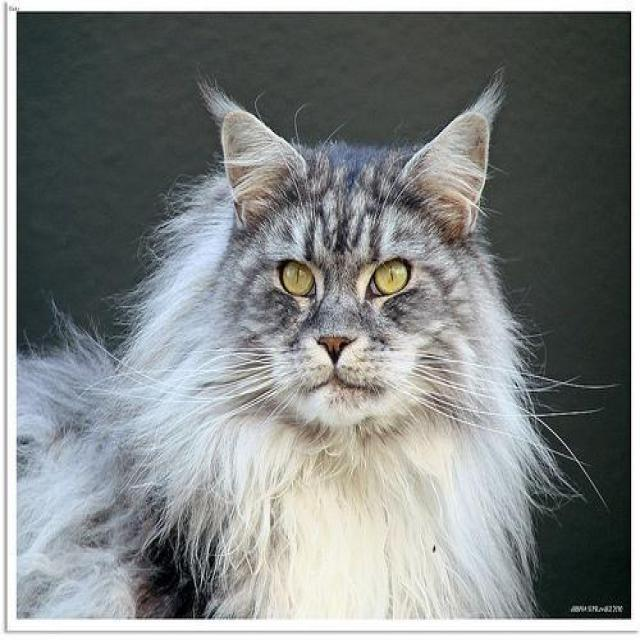cat: (18, 106, 520, 620)
